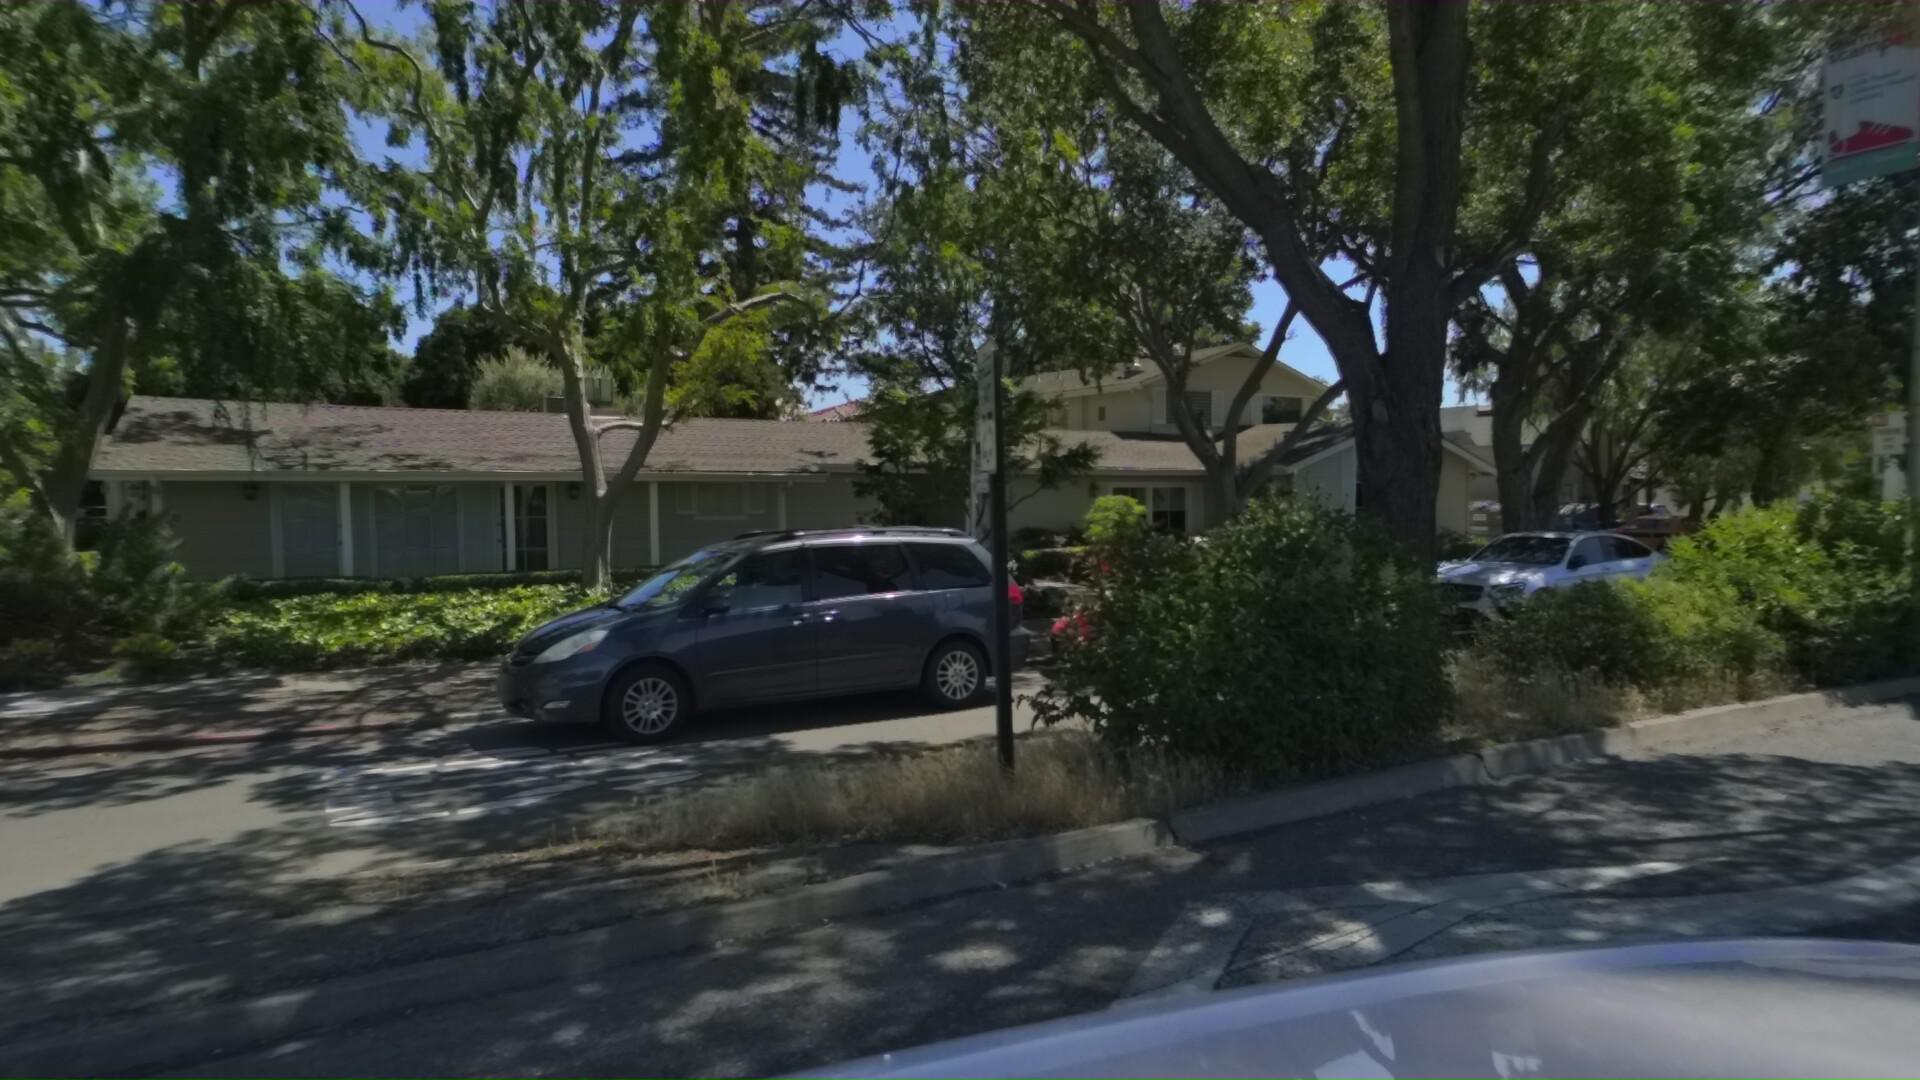car: (531, 520, 1091, 761), (1058, 542, 1420, 688), (1411, 520, 1709, 647), (1585, 504, 1729, 568), (0, 500, 55, 546)
other_vehicle: (1428, 491, 1615, 559)
